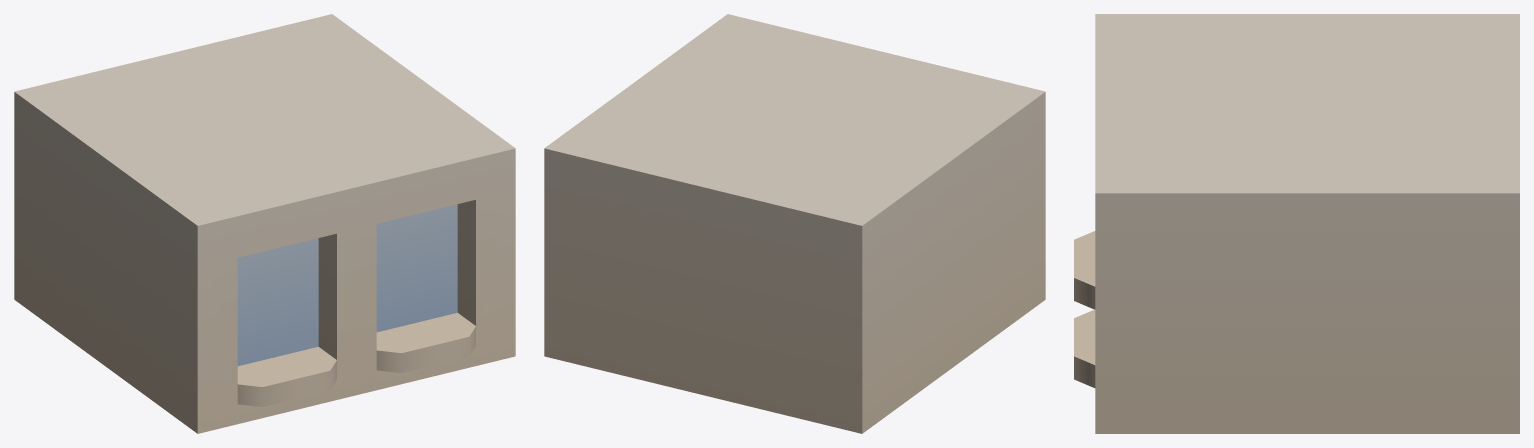
The model's file is building-windows-sills.glb.
3 views of the same model, side by side, from view 1: azimuth 30°, elevation 25°; view 2: azimuth 150°, elevation 25°; view 3: azimuth 270°, elevation 25° (orthographic). The views are drawn at different scales.
Parts seen in each view (by area): view 1: building-windows-sills; view 2: building-windows-sills; view 3: building-windows-sills.
Part boxes in pixels (x1,y1,x2,y2): building-windows-sills: [14, 14, 515, 433]; building-windows-sills: [544, 14, 1045, 433]; building-windows-sills: [1074, 14, 1519, 433].
Size of the model in its own units: 1 by 0.625 by 1.05.
